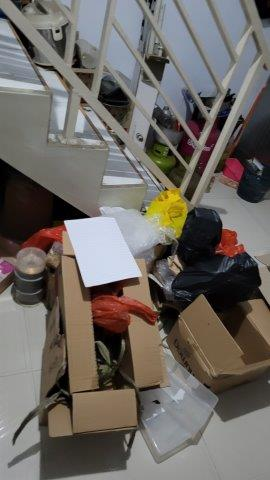kertas: (64, 216, 143, 284)
